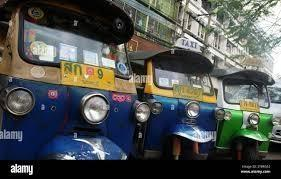keke: (1, 2, 246, 164)
